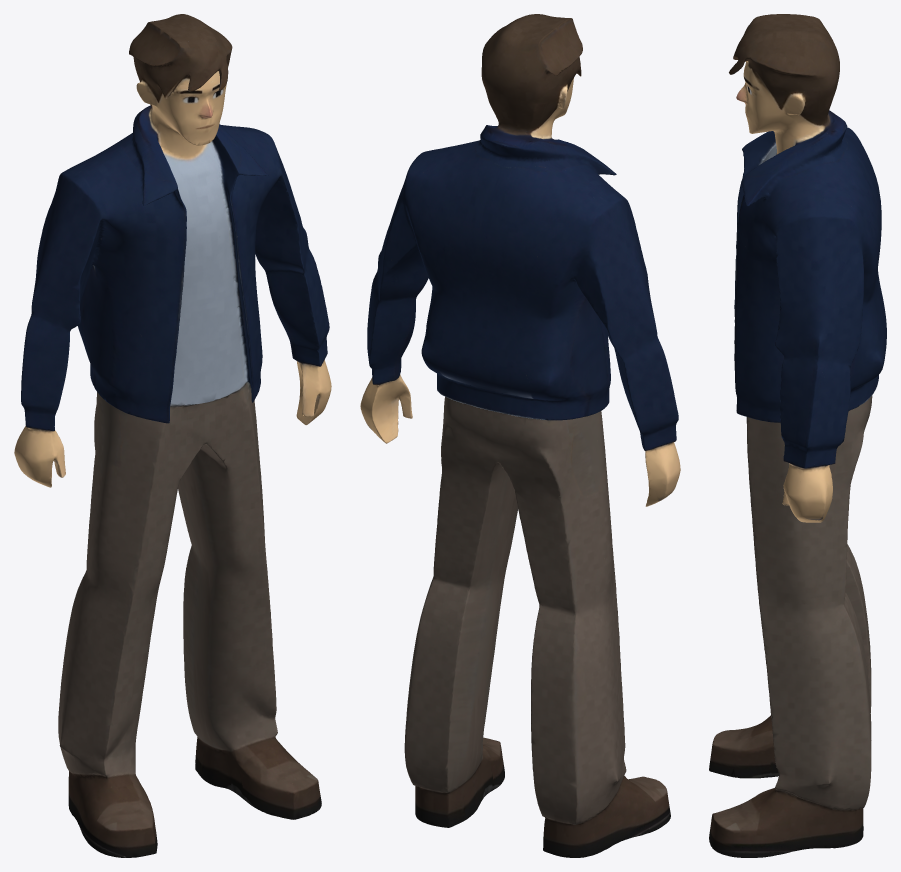
Rendered from Meshy_AI_Casual_Low_Poly_Man_0928004805_texture.glb.
3 views of the same model, side by side, from view 1: azimuth 30°, elevation 25°; view 2: azimuth 150°, elevation 25°; view 3: azimuth 270°, elevation 25° (orthographic).
Bounding box in the file's own units: 0.7808 × 1.9 × 0.3926.
1 material, 1 textured.
